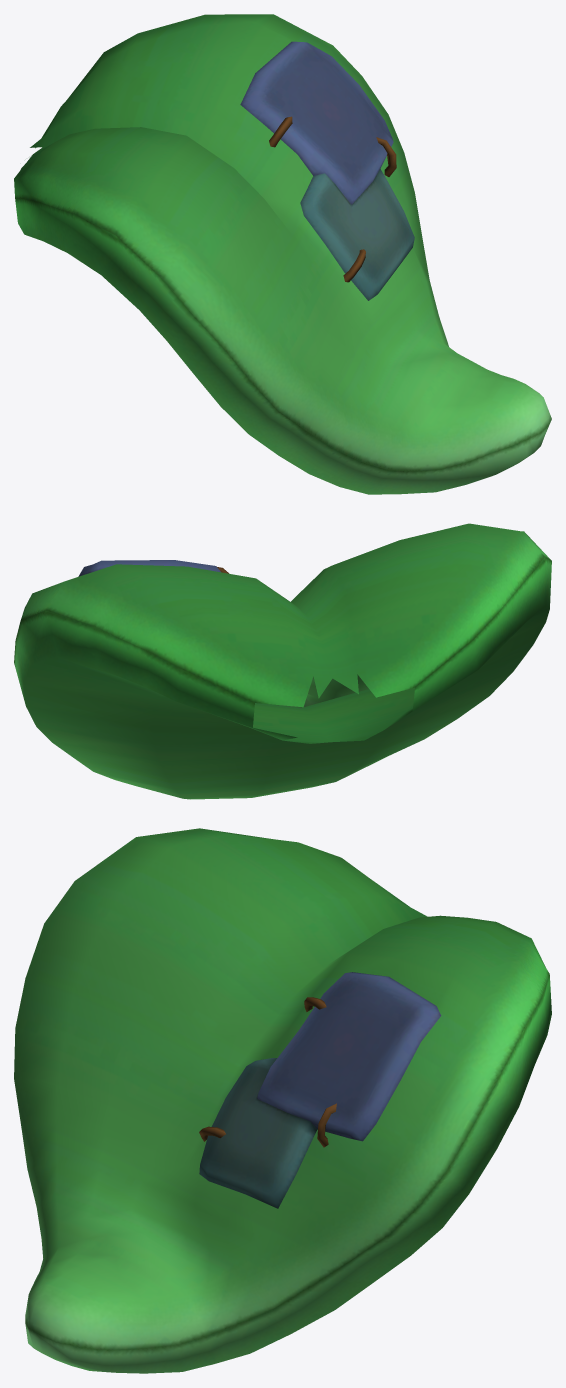
Rendered from stuffyflower_hoja_del_izq.obj.
The picture shows the model from 3 angles, top to bottom: view 1: azimuth 30°, elevation 25°; view 2: azimuth 150°, elevation 25°; view 3: azimuth 270°, elevation 25°; orthographic projection. The views are drawn at different scales.
Visible parts, largest first — view 1: stuffyflower_hoja_del_izq; view 2: stuffyflower_hoja_del_izq; view 3: stuffyflower_hoja_del_izq.
Part boxes in pixels (x1,y1,x2,y2): stuffyflower_hoja_del_izq: [14, 14, 551, 494]; stuffyflower_hoja_del_izq: [14, 523, 551, 799]; stuffyflower_hoja_del_izq: [14, 828, 551, 1373].
Size of the model in its own units: 0.3929 by 0.3069 by 0.4003.
